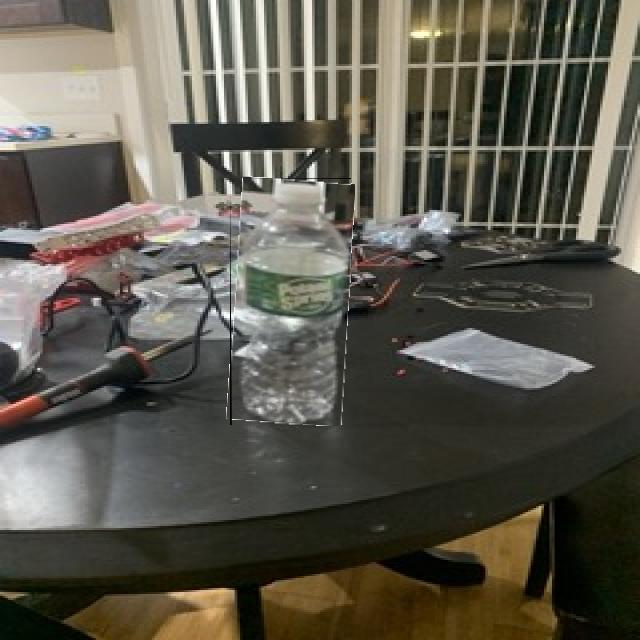water_bottle: (230, 178, 351, 425)
